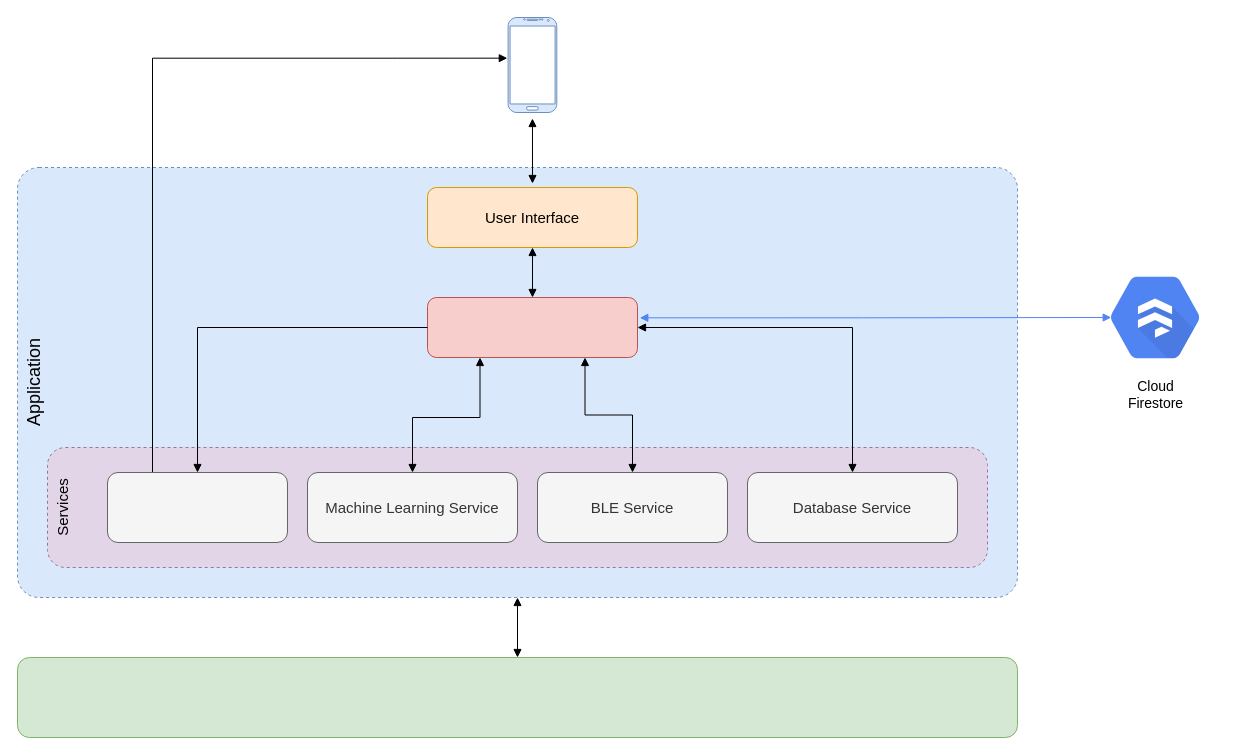
This 1240x755 diagram has some shape labels left out. The centre of each missing label's shape, as x and y in pixels:
"Android Platform Architecture" belongs at (517,697).
"Main Application Logic" belongs at (532,327).
"Notification Service" belongs at (197,507).
